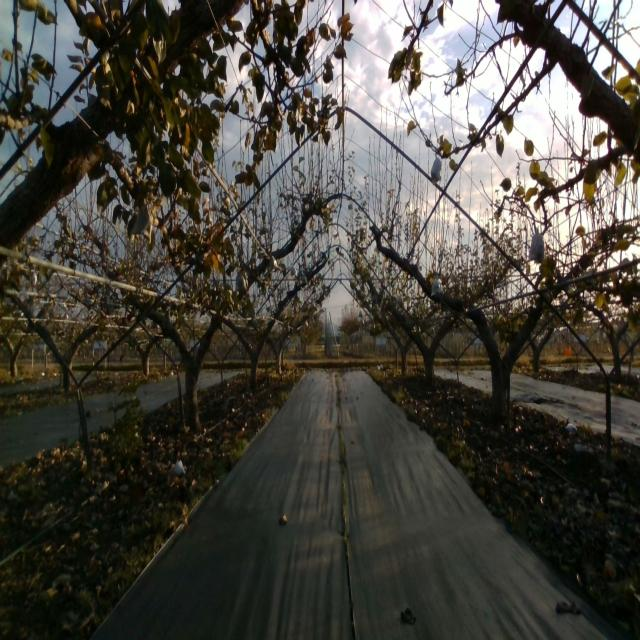pearbags: (130, 203, 153, 244), (529, 228, 544, 262), (430, 153, 442, 183), (235, 272, 249, 293), (431, 278, 443, 296), (268, 256, 279, 274)
